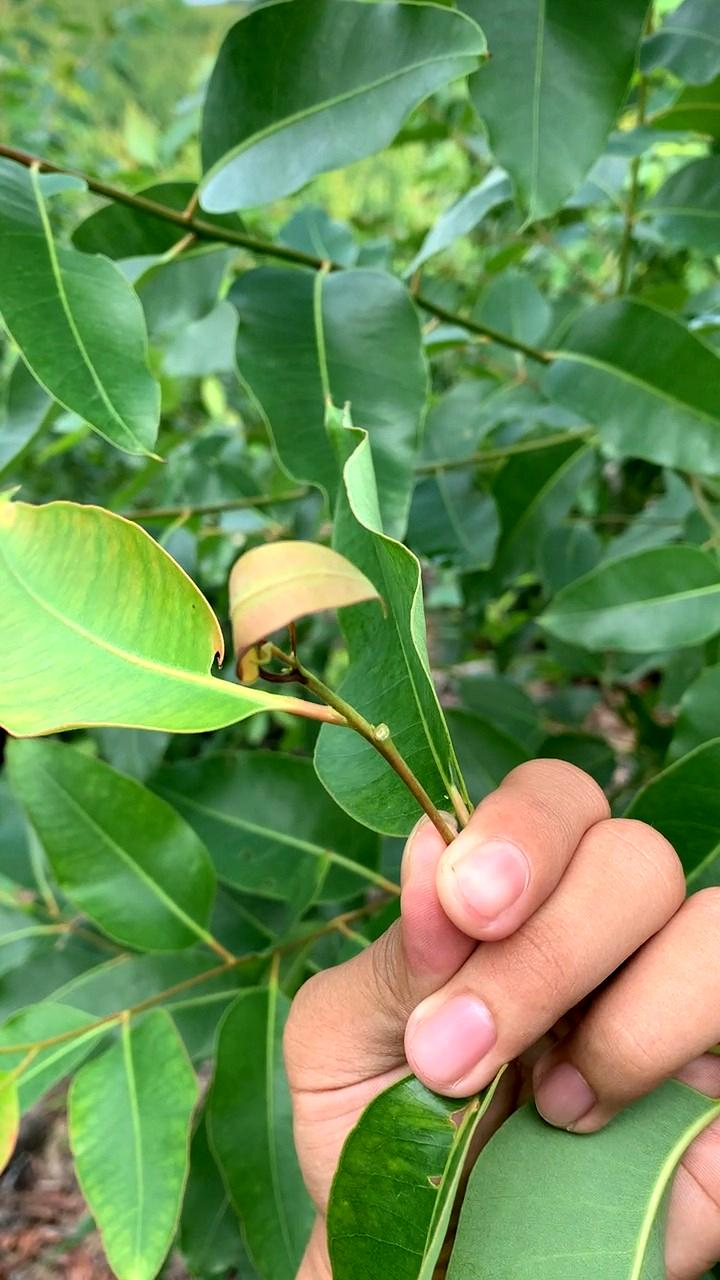Helopeltis-Withered Sprout: (205, 545, 383, 661)
